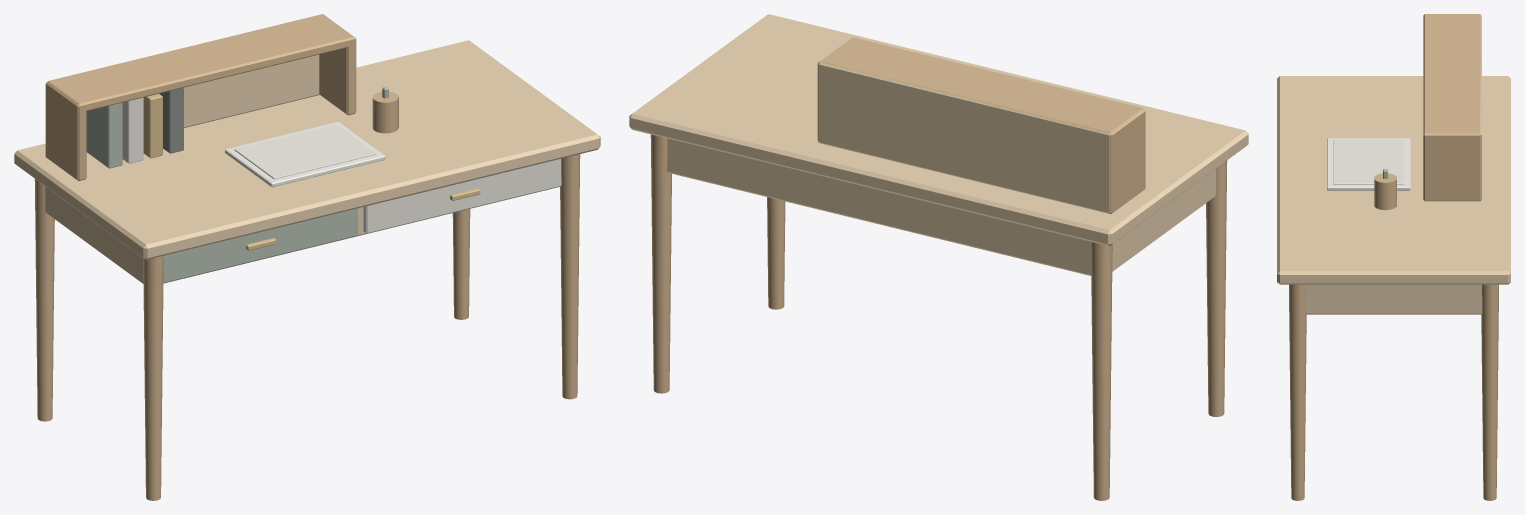
File: kids_desk.glb
The picture shows the model from 3 angles, left to right: view 1: azimuth 30°, elevation 25°; view 2: azimuth 150°, elevation 25°; view 3: azimuth 270°, elevation 25°; orthographic projection. The views are drawn at different scales.
Visible parts, largest first — view 1: kids_desk_oak_light, kids_desk_oak, kids_desk_ivory, kids_desk_sage, kids_desk_white, kids_desk_brass, kids_desk_dark; view 2: kids_desk_oak_light, kids_desk_oak; view 3: kids_desk_oak_light, kids_desk_oak, kids_desk_ivory, kids_desk_white.
Part boxes in pixels (x1,y1,x2,y2): kids_desk_oak_light: [14, 40, 600, 283]; kids_desk_oak: [34, 14, 580, 500]; kids_desk_ivory: [122, 97, 561, 233]; kids_desk_sage: [86, 86, 388, 283]; kids_desk_white: [225, 122, 385, 187]; kids_desk_brass: [143, 93, 480, 250]; kids_desk_dark: [159, 87, 183, 153]; kids_desk_oak_light: [629, 14, 1248, 275]; kids_desk_oak: [650, 37, 1227, 500]; kids_desk_oak_light: [1277, 15, 1510, 314]; kids_desk_oak: [1289, 14, 1498, 500]; kids_desk_ivory: [1333, 139, 1404, 184]; kids_desk_white: [1327, 138, 1410, 190].
Size of the model in its own units: 1.12 by 0.801 by 0.56.
